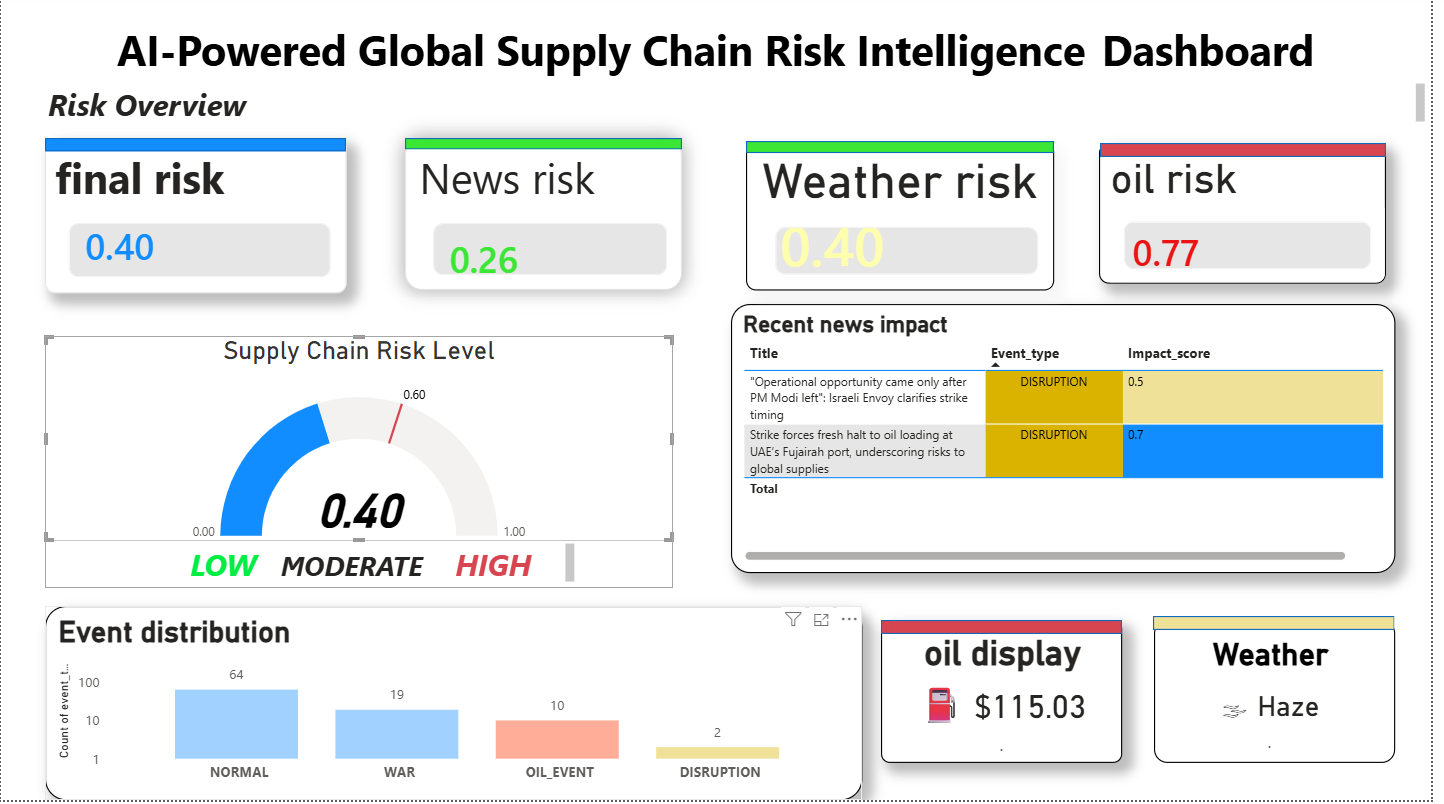

The page's visual inventory and layout, read from the dashboard file:
{"tool":"powerbi","page":{"name":"Page 1","canvas":[1280,720],"ordinal":0},"visuals":[{"type":"textbox","box":[0,73.4,1279.7,44.8],"z":0,"group":"g6"},{"type":"cardVisual","title":"News risk","fields":{"Data":["Sum(final_risk.news_risk)"]},"box":[361.8,127,248.1,136.2],"z":0,"group":"g3"},{"type":"group","id":"g1","title":"Group 1","box":[39.4,304.5,562.4,225.7],"z":0},{"type":"gauge","title":"Supply Chain Risk Level","fields":{"Y":["Sum(final_risk.final_risk_score)"]},"box":[39.4,304.5,562.4,183.9],"z":0,"group":"g1"},{"type":"textbox","box":[0,0,1279.7,86.9],"z":1000},{"type":"group","id":"g2","title":"Group 2","box":[39.1,127,269.8,138.9],"z":1000,"group":"g6"},{"type":"shape","box":[361.8,127.1,248.1,10.2],"z":1000,"group":"g3"},{"type":"group","id":"g3","title":"Group 3","box":[361.8,127,248.1,136.2],"z":2000,"group":"g6"},{"type":"group","id":"g4","title":"Group 4","box":[653.7,275.8,594.6,240.9],"z":2000},{"type":"tableEx","title":"Recent news impact","fields":{"Values":["processed_news.title","processed_news.event_type","Sum(processed_news.impact_score)"]},"box":[653.7,275.8,594.6,240.9],"z":2000,"group":"g4"},{"type":"group","id":"g5","title":"Group 5","box":[667.2,129.8,275.8,133.5],"z":3000,"group":"g6"},{"type":"clusteredColumnChart","title":"Event distribution","fields":{"Category":["processed_news.event_type"],"Y":["CountNonNull(processed_news.event_type)"]},"box":[39.4,546.3,731.6,173.7],"z":3000},{"type":"group","id":"g6","title":"Group 7","box":[0,73.4,1279.7,192.5],"z":4000},{"type":"group","id":"g7","title":"Group 6","box":[983,131.9,257,126.3],"z":4000,"group":"g6"},{"type":"card","title":"Weather","fields":{"Values":["processed_news.Weather Display"]},"box":[1032.8,559,215.6,127.8],"z":4000,"group":"g9"},{"type":"cardVisual","title":"final risk","fields":{"Data":["Sum(final_risk.final_risk_score)"]},"box":[39.1,127.2,269.6,138.7],"z":5000,"group":"g2"},{"type":"group","id":"g8","title":"Group 8","box":[788.1,558.8,215.8,128.1],"z":5000},{"type":"card","title":"oil display","fields":{"Values":["final_risk.Oil Display"]},"box":[788.1,558.8,215.8,128.1],"z":5000,"group":"g8"},{"type":"group","id":"g9","title":"Group 9","box":[1031.6,555.2,216.7,131.6],"z":6000},{"type":"shape","box":[39.4,127,269.6,11.9],"z":6003,"group":"g2"},{"type":"cardVisual","title":"oil risk","fields":{"Data":["Sum(final_risk.oil_risk)"]},"box":[983,131.9,257,126.3],"z":7000,"group":"g10"},{"type":"shape","box":[788.1,558.8,215.8,12.5],"z":7000,"group":"g8"},{"type":"cardVisual","title":"  Weather risk","fields":{"Data":["Sum(final_risk.weather_risk)"]},"box":[667.2,130.6,275.8,132.7],"z":8000,"group":"g5"},{"type":"shape","box":[1031.6,555.2,216.4,12.5],"z":8000,"group":"g9"},{"type":"group","id":"g10","title":"Group 10","box":[983,131.9,257,126.3],"z":8003,"group":"g7"},{"type":"textbox","box":[133.4,485.2,384.7,45],"z":9000,"group":"g1"},{"type":"shape","box":[667.2,129.8,275.8,10.8],"z":9006,"group":"g5"},{"type":"shape","box":[983.9,131.9,256.1,12.5],"z":9008,"group":"g10"}]}

Visuals, with their boxes in screenshot pixels (x1, y1, x2, y2), scaled from the page's 1280x720 canvas onto the 1444x804 screenshot:
textbox: [0,82,1443,132]
"News risk" cardVisual: [408,142,688,294]
"Group 1" group: [44,340,679,592]
"Supply Chain Risk Level" gauge: [44,340,679,545]
textbox: [0,0,1443,97]
"Group 2" group: [44,142,348,297]
shape: [408,142,688,153]
"Group 3" group: [408,142,688,294]
"Group 4" group: [737,308,1408,577]
"Recent news impact" tableEx: [737,308,1408,577]
"Group 5" group: [753,145,1064,294]
"Event distribution" clusteredColumnChart: [44,610,870,803]
"Group 7" group: [0,82,1443,297]
"Group 6" group: [1109,147,1399,288]
"Weather" card: [1165,624,1408,767]
"final risk" cardVisual: [44,142,348,297]
"Group 8" group: [889,624,1133,767]
"oil display" card: [889,624,1133,767]
"Group 9" group: [1164,620,1408,767]
shape: [44,142,349,155]
"oil risk" cardVisual: [1109,147,1399,288]
shape: [889,624,1133,638]
"  Weather risk" cardVisual: [753,146,1064,294]
shape: [1164,620,1408,634]
"Group 10" group: [1109,147,1399,288]
textbox: [150,542,584,592]
shape: [753,145,1064,157]
shape: [1110,147,1399,161]
